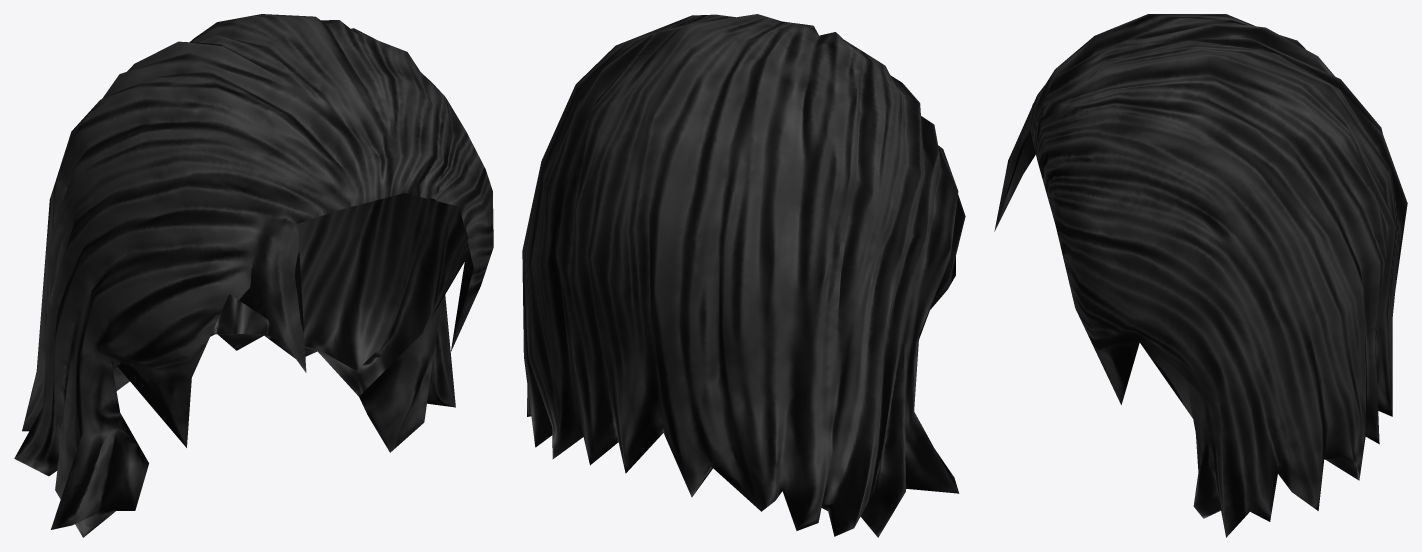
File: AF_M_hair_17.fbx
3 views of the same model, side by side, from view 1: azimuth 30°, elevation 25°; view 2: azimuth 150°, elevation 25°; view 3: azimuth 270°, elevation 25° (orthographic). The views are drawn at different scales.
Parts seen in each view (by area): view 1: AF_M_hair_17; view 2: AF_M_hair_17; view 3: AF_M_hair_17.
Part boxes in pixels (x1,y1,x2,y2): AF_M_hair_17: [14, 14, 493, 537]; AF_M_hair_17: [522, 14, 965, 537]; AF_M_hair_17: [994, 14, 1407, 537].
Size of the model in its own units: 831 by 891 by 736.
